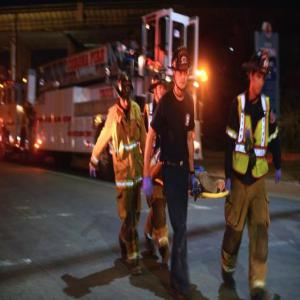red: (249, 49, 271, 95), (172, 46, 192, 91), (116, 72, 134, 111), (152, 69, 169, 103)
